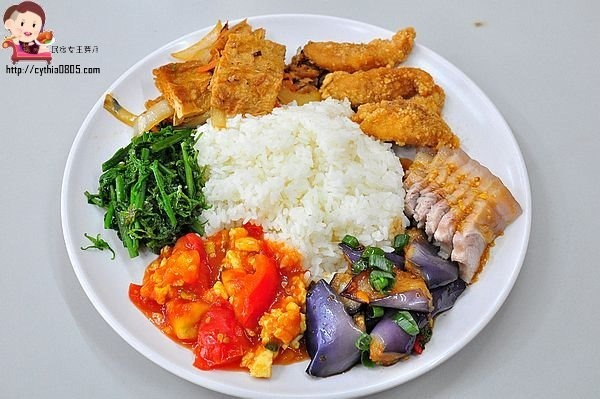rice: (191, 98, 406, 255)
